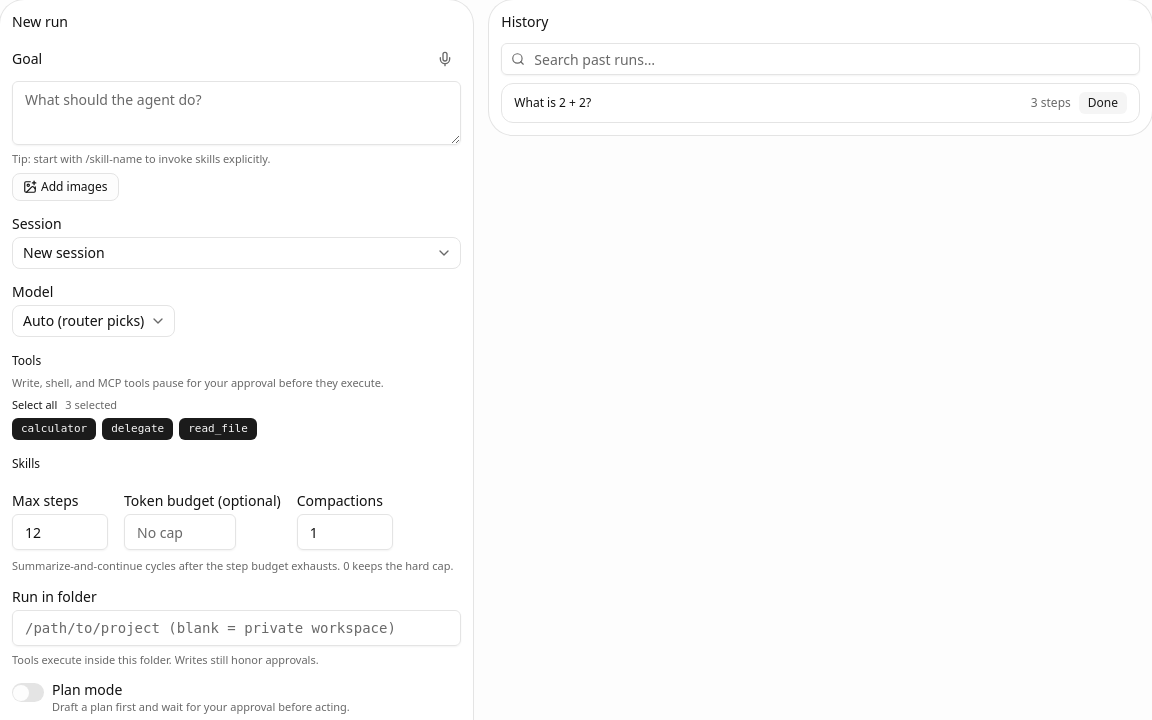
Scenario: shows the delegate tool and the child-of line
Click the button "What is 2 + 2? 3 steps Done" at point(553, 103), box [501, 83, 1140, 123]
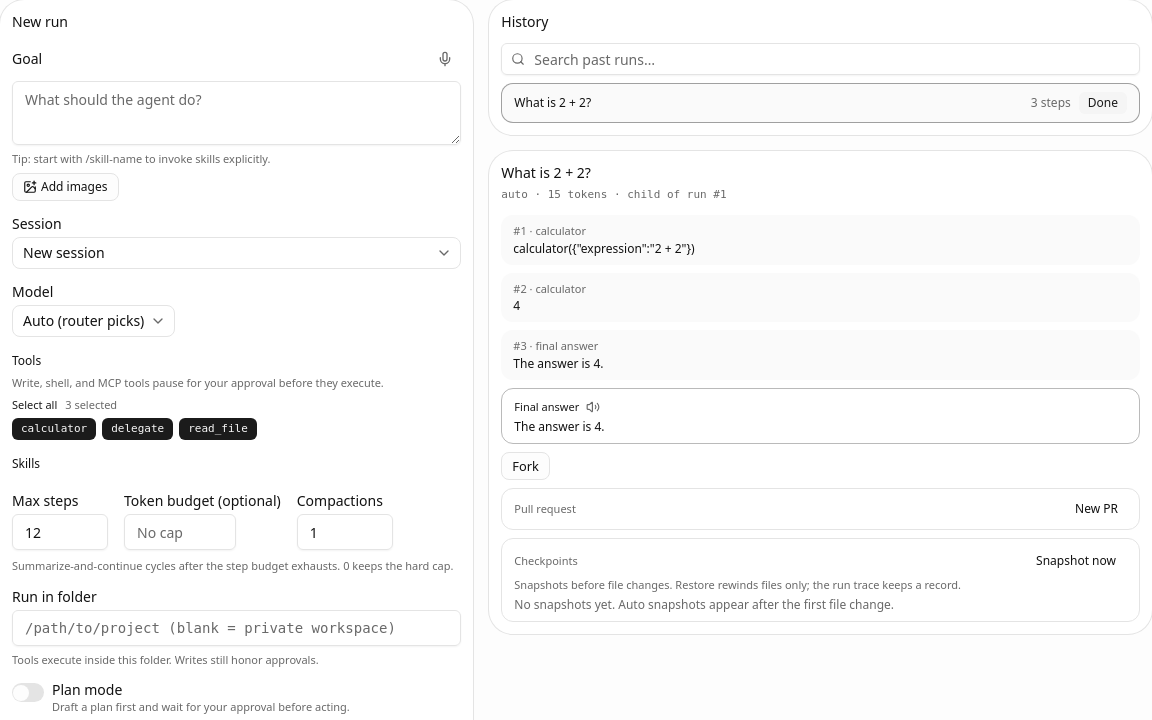
Expected: the text "child of run #1" is shown, [627, 188, 726, 201]
